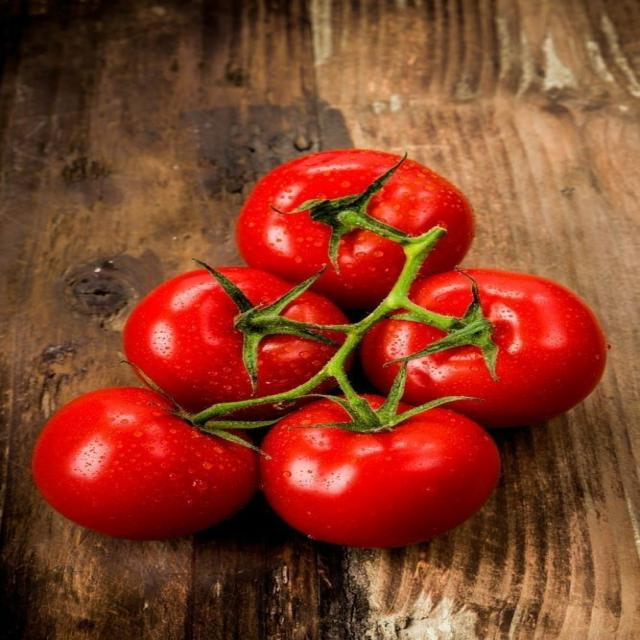level 6: (372, 268, 608, 431), (262, 394, 497, 553), (243, 149, 474, 296), (36, 384, 262, 531), (127, 266, 346, 403)
